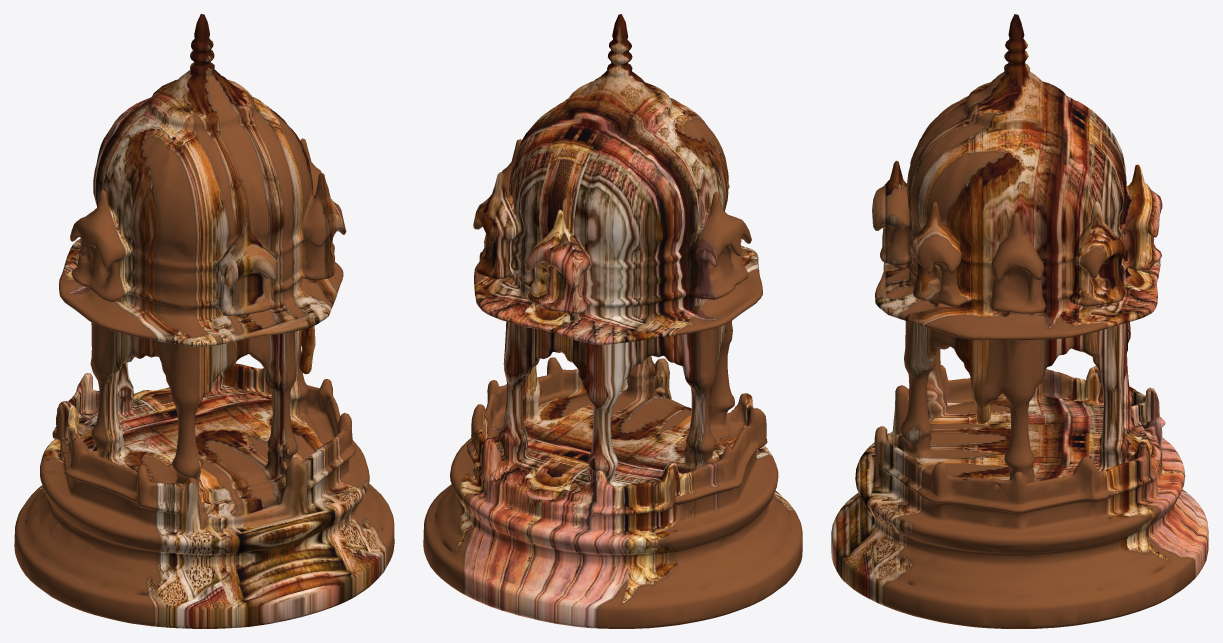
The model's file is chhatri_pavilion.glb.
3 renders of one model, left to right at view 1: azimuth 30°, elevation 25°; view 2: azimuth 150°, elevation 25°; view 3: azimuth 270°, elevation 25°, orthographic.
Visible parts, largest first — view 1: geometry_0; view 2: geometry_0; view 3: geometry_0.
Boxes of the visible parts, bbox=[...] form: geometry_0: bbox=[14, 14, 394, 628]; geometry_0: bbox=[423, 14, 802, 628]; geometry_0: bbox=[831, 14, 1208, 628].
Bounding box in the file's own units: 1.26 × 1.97 × 1.25.
Materials: 1 (1 with a texture image).
